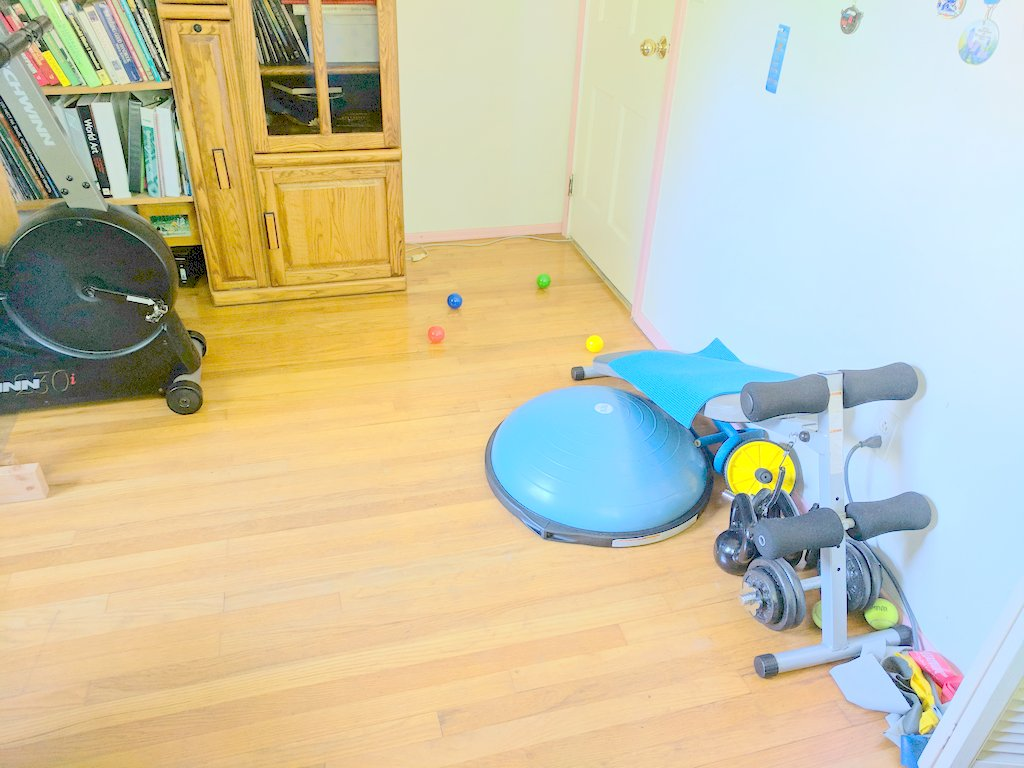ball: (535, 274, 550, 288)
